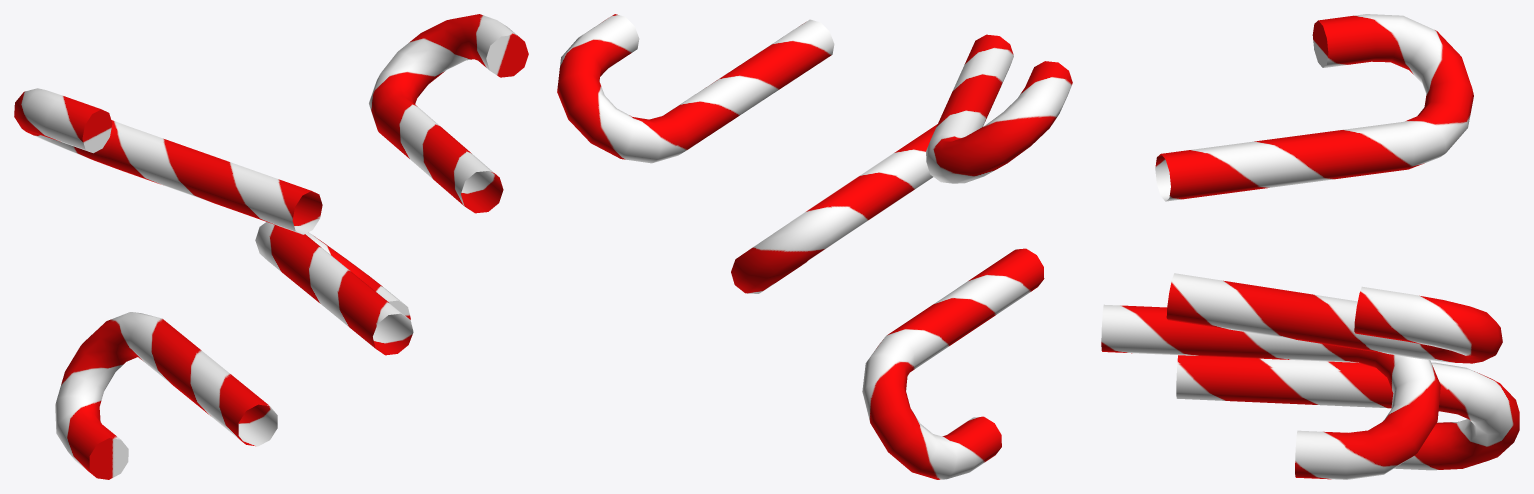
The model's file is EnviroSet2.fbx.
3 renders of one model, left to right at view 1: azimuth 30°, elevation 25°; view 2: azimuth 150°, elevation 25°; view 3: azimuth 270°, elevation 25°, orthographic. The views are drawn at different scales.
Parts seen in each view (by area): view 1: Candy.002, Candy.001, Candy, Candy.003; view 2: Candy, Candy.002, Candy.001, Candy.003; view 3: Candy.001, Candy, Candy.003, Candy.002.
Part boxes in pixels (x1,y1,x2,y2): Candy.002: (55,312,277,479); Candy.001: (14,88,322,234); Candy: (369,14,528,213); Candy.003: (255,222,413,355); Candy: (557,14,834,163); Candy.002: (862,248,1044,479); Candy.001: (926,34,1072,183); Candy.003: (731,124,937,293); Candy.001: (1155,14,1473,201); Candy: (1166,273,1502,363); Candy.003: (1101,304,1440,479); Candy.002: (1176,355,1519,470).
Size of the model in its own units: 1.95 by 2.5 by 1.74.
